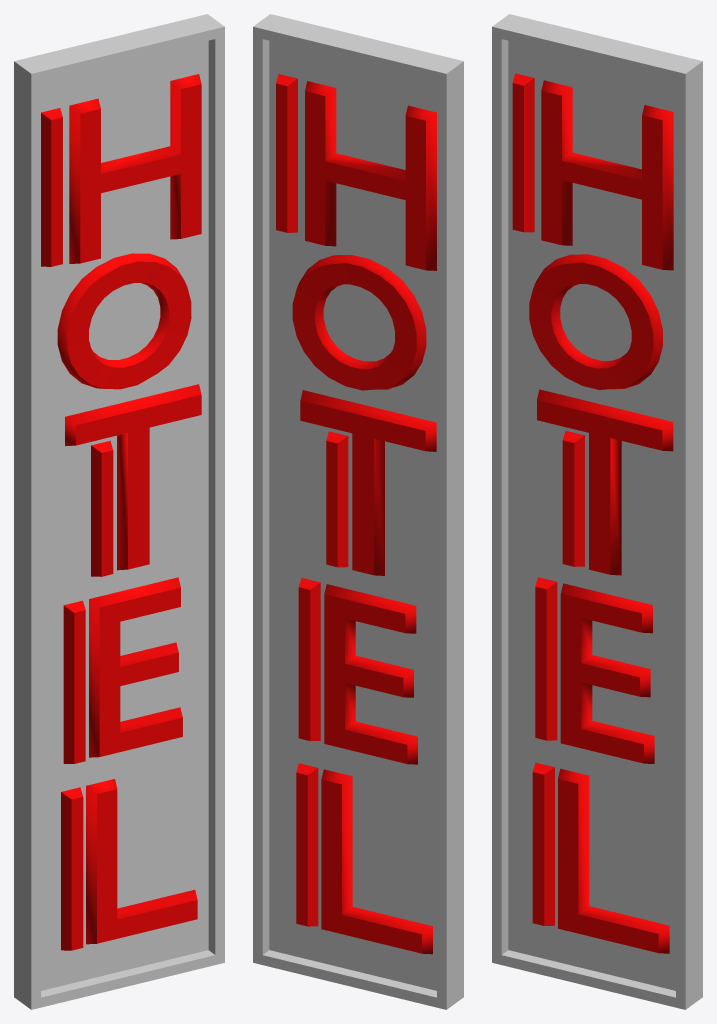
The model's file is Sign3.fbx.
3 views of the same model, side by side, from view 1: azimuth 30°, elevation 25°; view 2: azimuth 150°, elevation 25°; view 3: azimuth 330°, elevation 25° (orthographic).
Parts seen in each view (by area): view 1: Cube.001; view 2: Cube.001; view 3: Cube.001.
Boxes of the visible parts, <box> form: Cube.001: <box>14,14,224,1009</box>; Cube.001: <box>253,14,463,1009</box>; Cube.001: <box>492,14,702,1009</box>.
Size of the model in its own units: 8.45 by 39.05 by 1.31.
